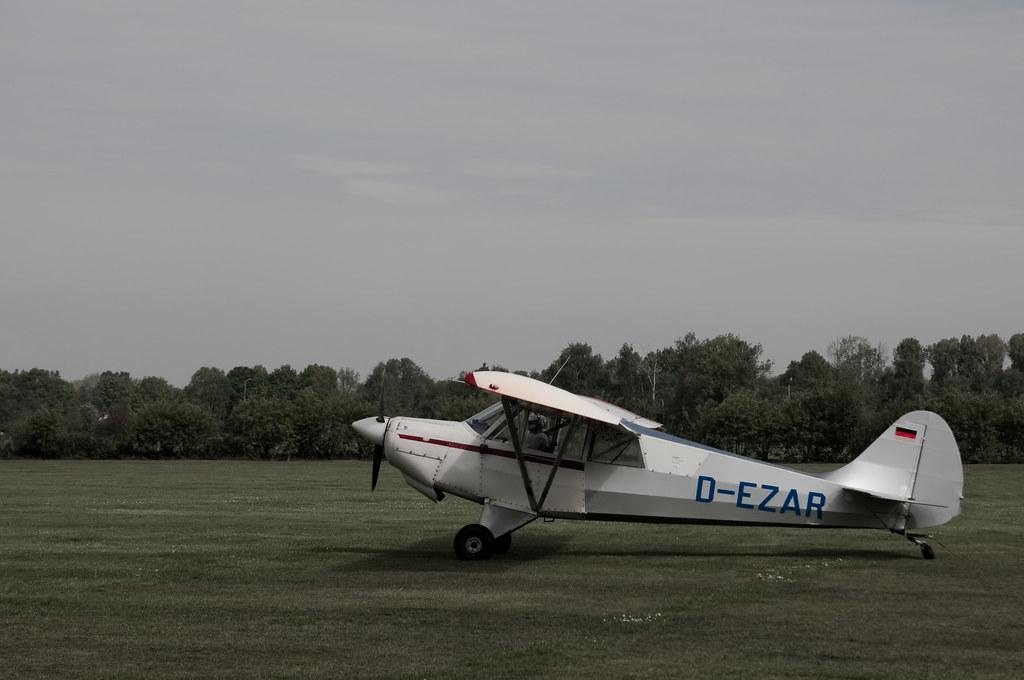plane: (350, 368, 966, 562)
